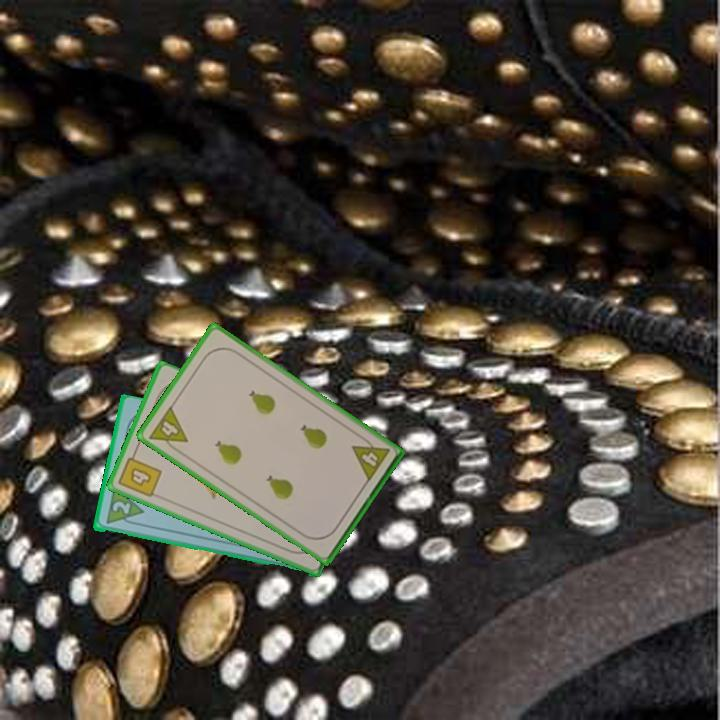2p: (108, 498, 133, 518)
4b: (115, 447, 165, 500)
4p: (145, 402, 191, 456), (348, 432, 392, 485)
